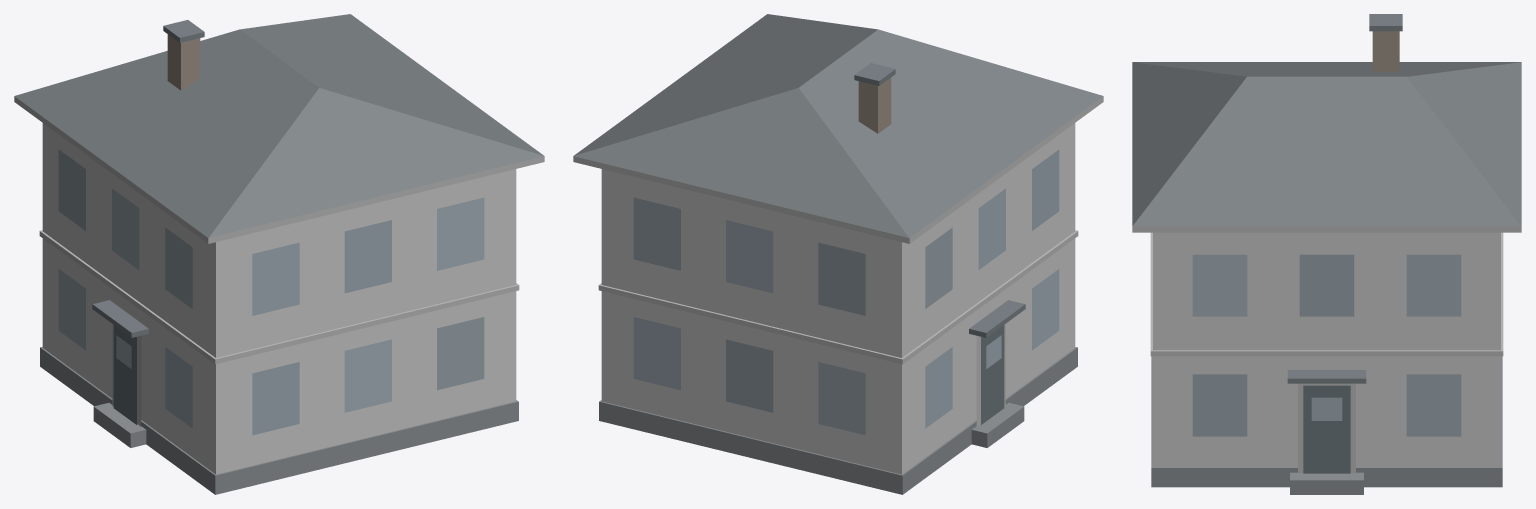
File: home_4.glb
The picture shows the model from 3 angles, left to right: view 1: azimuth 30°, elevation 25°; view 2: azimuth 150°, elevation 25°; view 3: azimuth 270°, elevation 25°; orthographic projection.
Visible parts, largest first — view 1: home_4; view 2: home_4; view 3: home_4.
Part boxes in pixels (left/top/right/bottom): home_4: left=14, top=14, right=544, bottom=494; home_4: left=573, top=14, right=1103, bottom=494; home_4: left=1132, top=14, right=1521, bottom=494.
Bounding box in the file's own units: 8.4 × 8.58 × 8.4.
